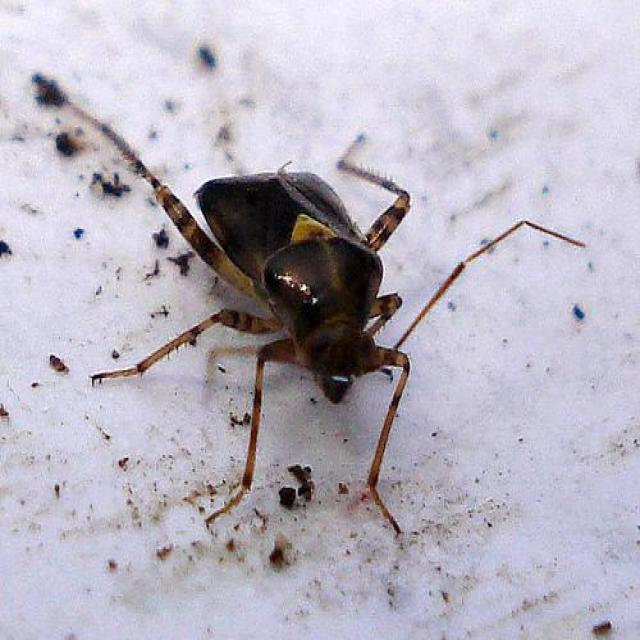Miridae-Adult-: (49, 83, 574, 512)
